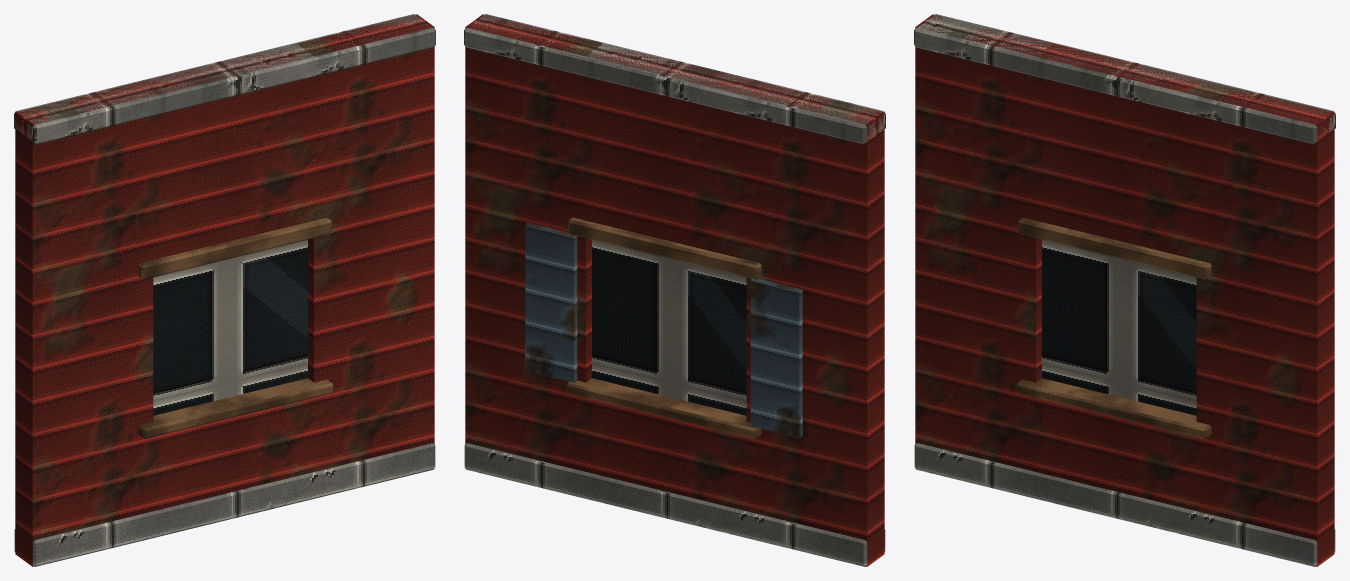
Rendered from wall_siding_red_glass.glb.
The picture shows the model from 3 angles, left to right: view 1: azimuth 30°, elevation 25°; view 2: azimuth 150°, elevation 25°; view 3: azimuth 330°, elevation 25°; orthographic projection.
Parts seen in each view (by area): view 1: wall_siding_red_glass_mesh; view 2: wall_siding_red_glass_mesh; view 3: wall_siding_red_glass_mesh.
Boxes of the visible parts, x1,y1,x2,y2 form: wall_siding_red_glass_mesh: [14, 14, 435, 566]; wall_siding_red_glass_mesh: [464, 14, 885, 566]; wall_siding_red_glass_mesh: [914, 14, 1335, 566].
Size of what is drawn, in the model's own units: 4 by 4.2 by 0.5.
5 materials, 5 textured.
